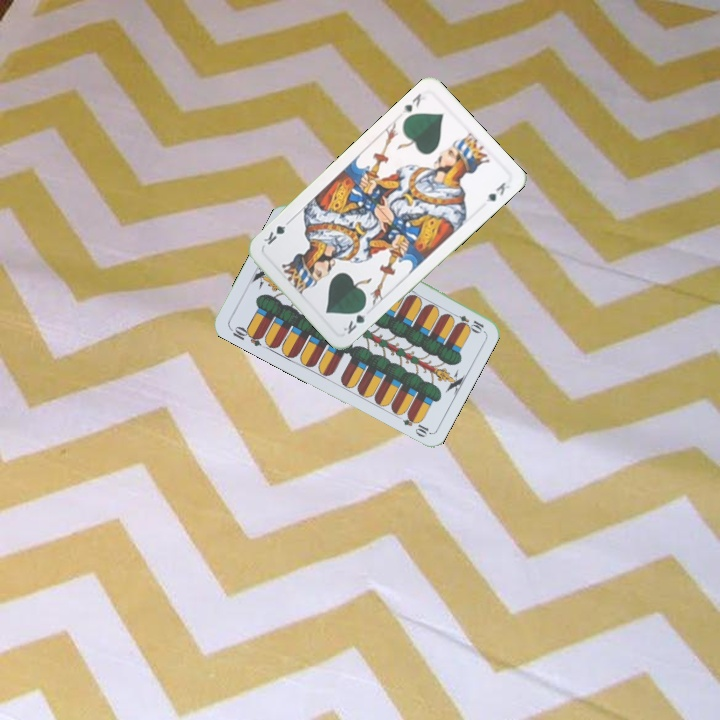E10: (226, 322, 266, 349), (447, 309, 486, 335)
GK: (339, 302, 369, 337), (398, 89, 424, 116)
